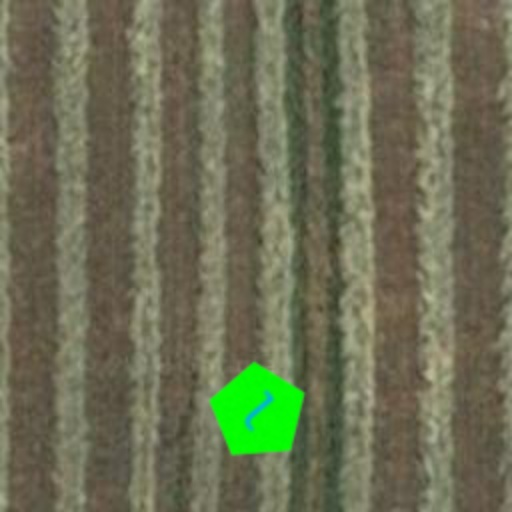pentagon: (186, 340, 330, 484)
